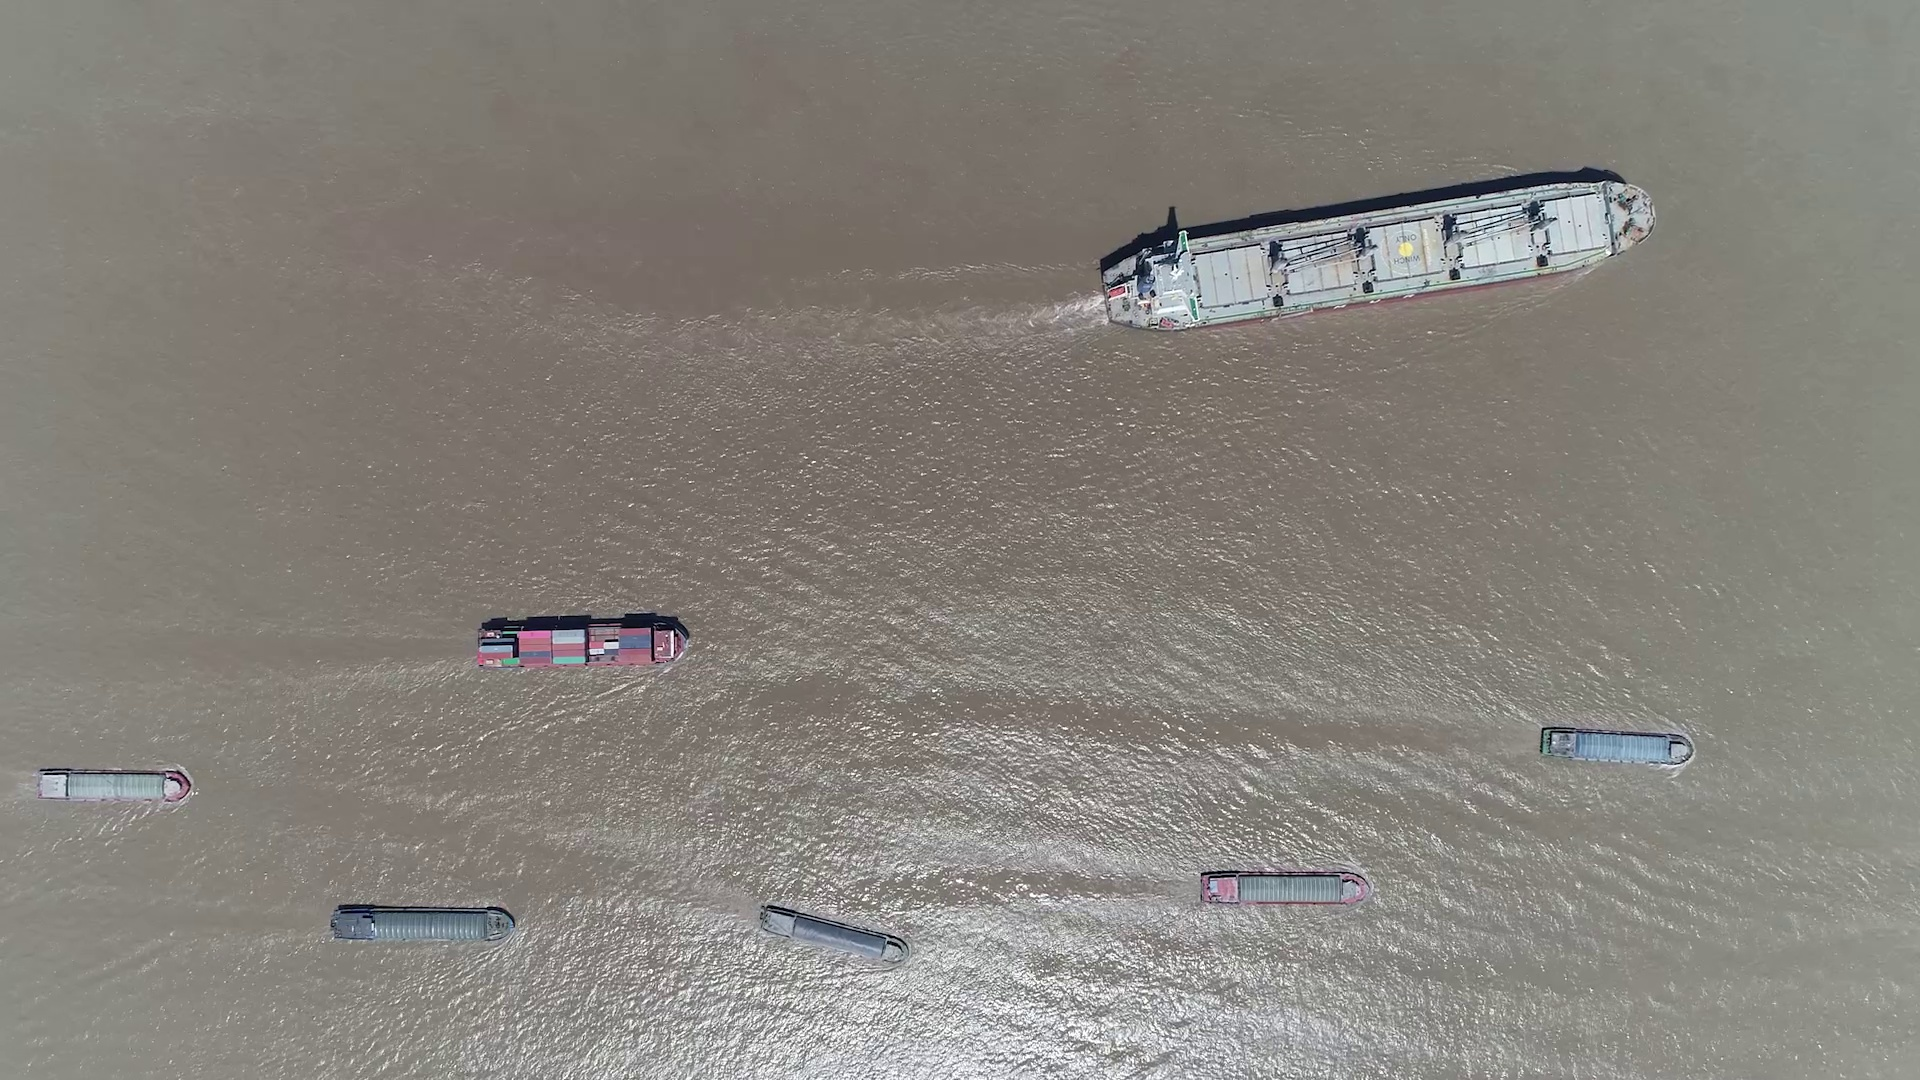ship: (1098, 179, 1654, 328), (476, 618, 690, 670), (760, 905, 909, 963), (330, 905, 514, 943), (1538, 727, 1693, 766), (1201, 869, 1371, 905), (33, 767, 189, 804)
